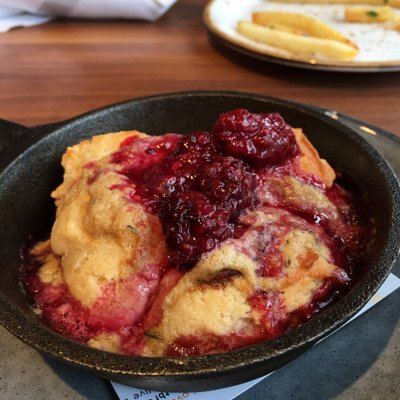curry: (0, 1, 399, 389)
sandwich: (18, 100, 397, 361)
